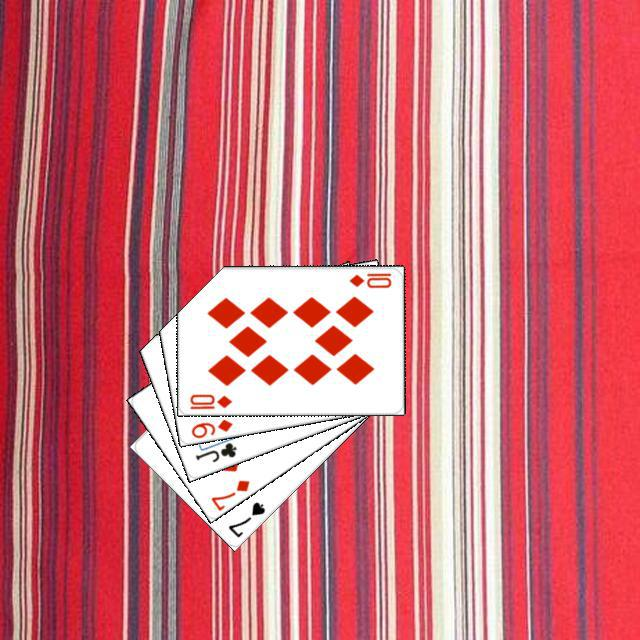10d: (345, 268, 393, 290), (185, 389, 233, 410)
7d: (206, 475, 251, 512)
7s: (223, 497, 267, 539)
9d: (186, 414, 234, 439)
Jc: (190, 437, 238, 464)
